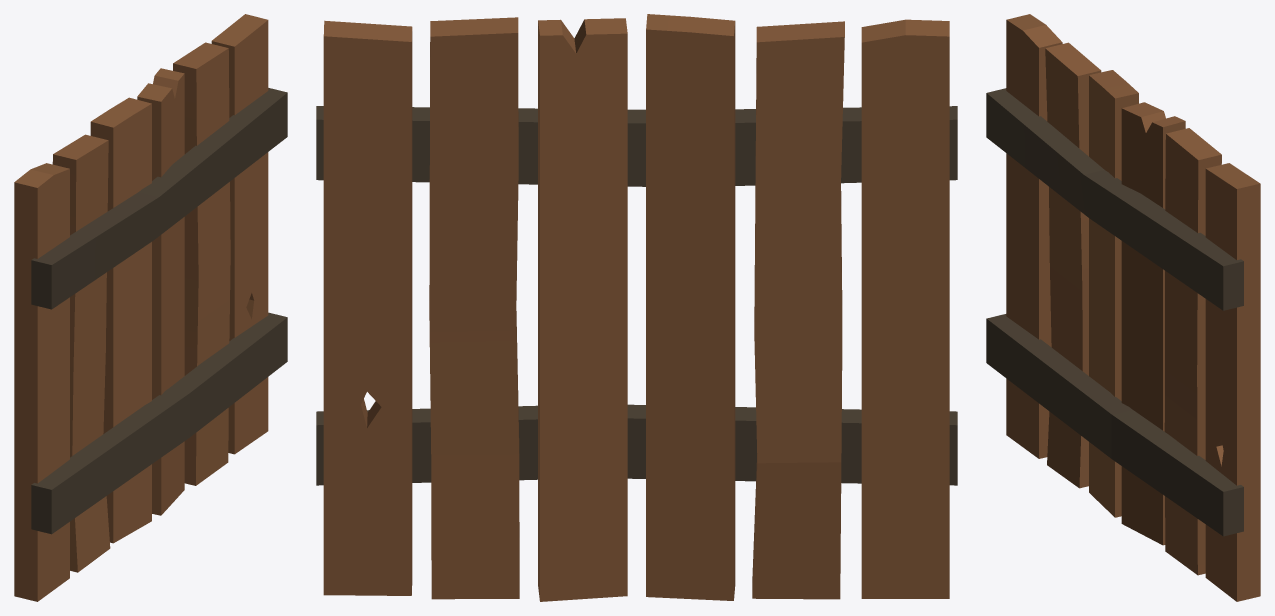
File: Fence_Breakable_A (2).fbx
3 views of the same model, side by side, from view 1: azimuth 30°, elevation 25°; view 2: azimuth 150°, elevation 25°; view 3: azimuth 270°, elevation 25° (orthographic). The views are drawn at different scales.
Parts seen in each view (by area): view 1: Fence_Breakable_A (2); view 2: Fence_Breakable_A (2); view 3: Fence_Breakable_A (2).
Boxes of the visible parts, box(x1,y1,x2,y2) form: Fence_Breakable_A (2): box(14, 14, 287, 601); Fence_Breakable_A (2): box(316, 14, 957, 601); Fence_Breakable_A (2): box(986, 14, 1260, 601).
Bounding box in the file's own units: 4.07 × 4.4 × 2.6.
